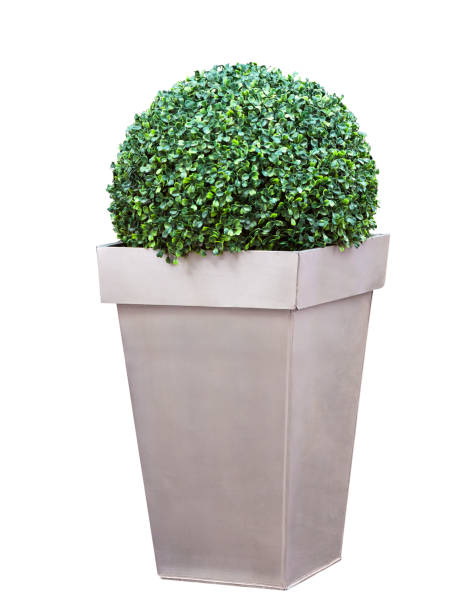potted plant: (77, 35, 423, 597)
